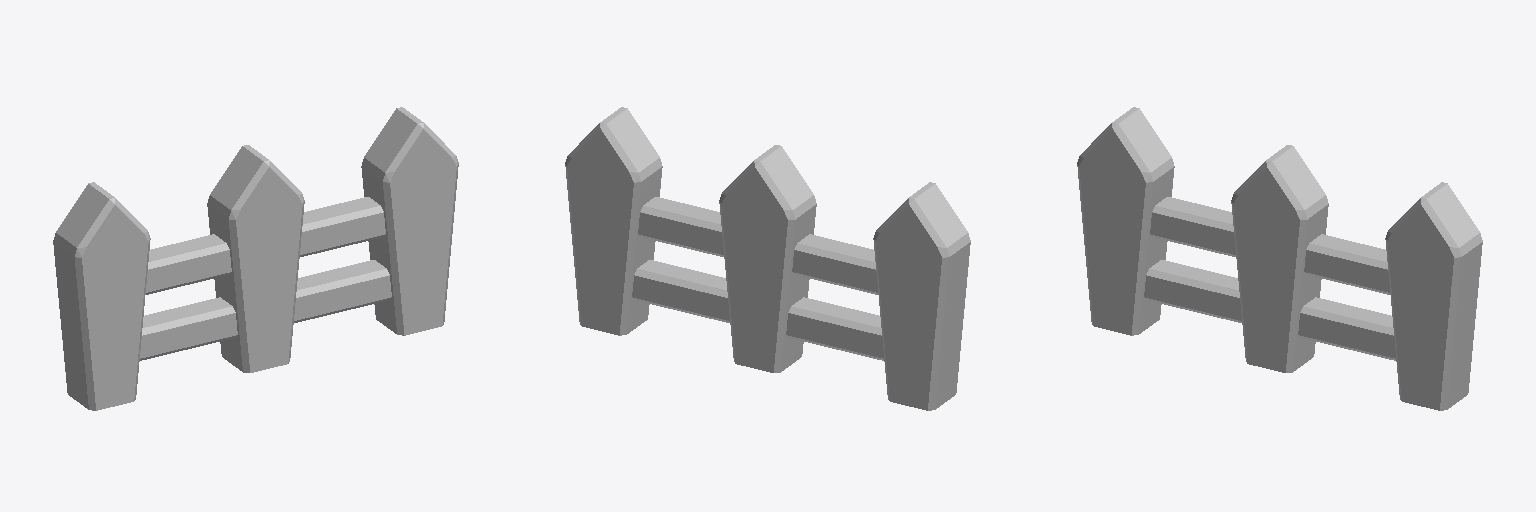
File: Fence Straight Long.obj
The picture shows the model from 3 angles: view 1: azimuth 30°, elevation 25°; view 2: azimuth 150°, elevation 25°; view 3: azimuth 330°, elevation 25°; orthographic projection.
Parts seen in each view (by area): view 1: obj1; view 2: obj1; view 3: obj1.
Part boxes in pixels (x1,y1,x2,y2): obj1: (53, 107, 458, 410); obj1: (565, 107, 970, 410); obj1: (1077, 107, 1482, 410).
Bounding box in the file's own units: 2.49 × 1.28 × 0.3.